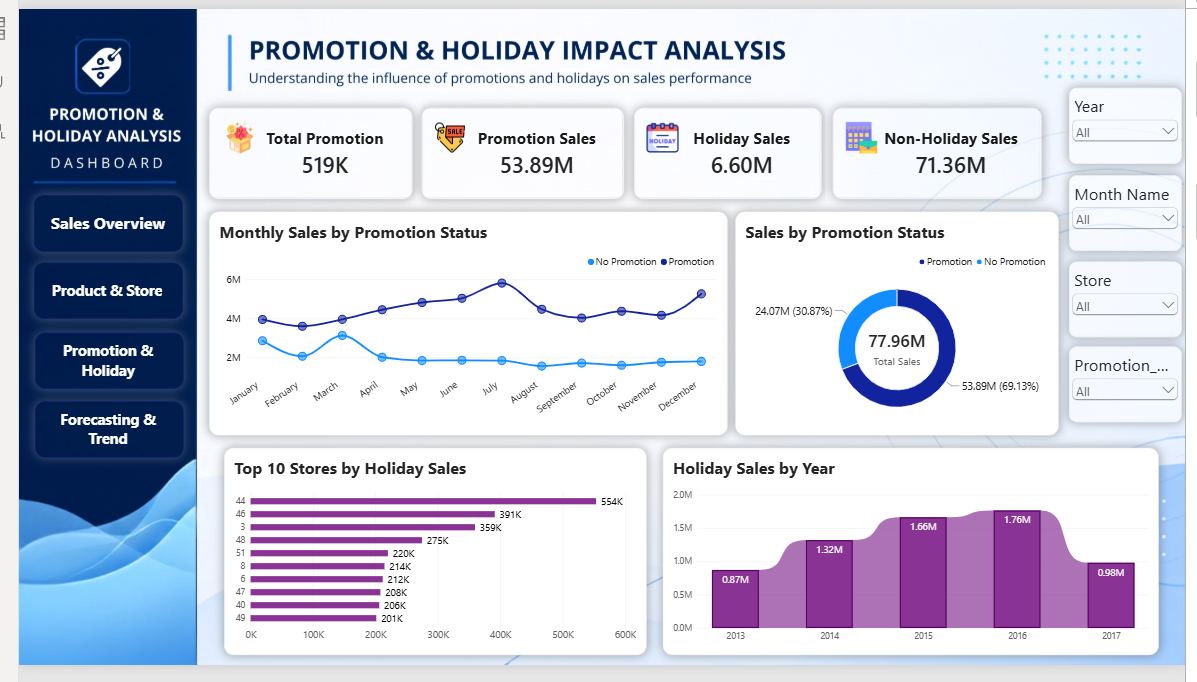

What the dashboard file says about the page in this screenshot:
{"tool":"powerbi","page":{"name":"Promotion & Holiday Analysis","canvas":[1920,1080],"ordinal":2},"visuals":[{"type":"image","box":[98.8,63,74,65],"z":0},{"type":"cardVisual","fields":{"Data":["Sum(Sales_Cleaned_Final.onpromotion)"]},"box":[312.9,162.6,335.5,150.3],"z":1000},{"type":"cardVisual","fields":{"Data":["Sales_Cleaned_Final.Promoted Sales"]},"box":[662.8,162.6,333.4,150.3],"z":2000},{"type":"cardVisual","fields":{"Data":["Sales_Cleaned_Final.Holiday Sales"]},"box":[1012.7,162.6,308.7,150.3],"z":3000},{"type":"cardVisual","fields":{"Data":["Sales_Cleaned_Final.Non-Holiday Sales"]},"box":[1340,162.6,343.7,150.3],"z":4000},{"type":"image","box":[683.4,185.2,53,53],"z":5000},{"type":"image","box":[337.6,185.2,53,53],"z":6000},{"type":"image","box":[1033.3,185.2,53,53.5],"z":7000},{"type":"image","box":[1360.6,185.2,53.5,53.5],"z":8000},{"type":"lineChart","title":"Monthly Sales by Promotion Status","fields":{"Category":["Sales_Cleaned_Final.Month Name"],"Y":["Sum(Sales_Cleaned_Final.sales)"],"Series":["Sales_Cleaned_Final.Promotion_Status"]},"box":[312.9,333.4,854.2,368.4],"z":9000},{"type":"donutChart","title":"Sales by Promotion Status","fields":{"Category":["Sales_Cleaned_Final.Promotion_Status"],"Y":["Sum(Sales_Cleaned_Final.sales)"]},"box":[1180,333.4,533.1,368.4],"z":10000},{"type":"clusteredBarChart","title":"Top 10 Stores by Holiday Sales","fields":{"Category":["Sales_Cleaned_Final.store_nbr"],"Y":["Sales_Cleaned_Final.Holiday Sales"]},"box":[337.6,722.5,695.7,341.7],"z":11000},{"type":"ribbonChart","fields":{"Category":["Sales_Cleaned_Final.Year"],"Y":["Sales_Cleaned_Final.Holiday Sales"]},"box":[1060,722.5,817.2,341.7],"z":12000},{"type":"slicer","fields":{"Values":["Sales_Cleaned_Final.Year"]},"box":[1729,129.7,185.2,125.6],"z":13000},{"type":"slicer","fields":{"Values":["Sales_Cleaned_Final.Month Name"]},"box":[1729,274,185.2,125],"z":14000},{"type":"slicer","fields":{"Values":["Sales_Cleaned_Final.store_nbr"]},"box":[1729,415.8,185.2,125],"z":15000},{"type":"slicer","fields":{"Values":["Sales_Cleaned_Final.Promotion_Status"]},"box":[1729,555,185.2,125],"z":16000},{"type":"actionButton","box":[24.7,306,244.9,92.6],"z":17000},{"type":"actionButton","box":[24.7,418,244.9,92],"z":18000},{"type":"actionButton","box":[26.8,533,244,92],"z":19000},{"type":"actionButton","box":[26.8,646.3,244,92],"z":20000}]}

Visuals, with their boxes on the page's 1920x1080 design canvas (x1, y1, x2, y2). These are canvas units, not pixel positions in the 1197x682 screenshot, which may show the page scaled, cropped or inside an application window:
image: crop(99, 63, 173, 128)
cardVisual - Sum(Sales_Cleaned_Final.onpromotion): crop(313, 163, 648, 313)
cardVisual - Sales_Cleaned_Final.Promoted Sales: crop(663, 163, 996, 313)
cardVisual - Sales_Cleaned_Final.Holiday Sales: crop(1013, 163, 1321, 313)
cardVisual - Sales_Cleaned_Final.Non-Holiday Sales: crop(1340, 163, 1684, 313)
image: crop(683, 185, 736, 238)
image: crop(338, 185, 391, 238)
image: crop(1033, 185, 1086, 239)
image: crop(1361, 185, 1414, 239)
"Monthly Sales by Promotion Status" lineChart: crop(313, 333, 1167, 702)
"Sales by Promotion Status" donutChart: crop(1180, 333, 1713, 702)
"Top 10 Stores by Holiday Sales" clusteredBarChart: crop(338, 722, 1033, 1064)
ribbonChart - Sales_Cleaned_Final.Year x Sales_Cleaned_Final.Holiday Sales: crop(1060, 722, 1877, 1064)
slicer - Sales_Cleaned_Final.Year: crop(1729, 130, 1914, 255)
slicer - Sales_Cleaned_Final.Month Name: crop(1729, 274, 1914, 399)
slicer - Sales_Cleaned_Final.store_nbr: crop(1729, 416, 1914, 541)
slicer - Sales_Cleaned_Final.Promotion_Status: crop(1729, 555, 1914, 680)
actionButton: crop(25, 306, 270, 399)
actionButton: crop(25, 418, 270, 510)
actionButton: crop(27, 533, 271, 625)
actionButton: crop(27, 646, 271, 738)
